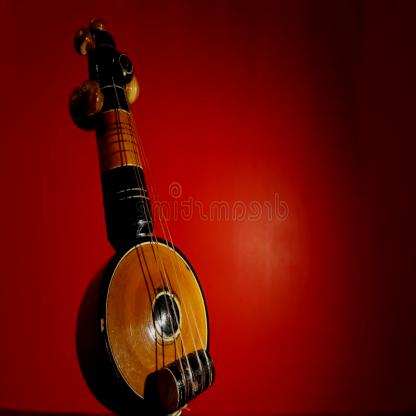Veena: (69, 30, 217, 412)
